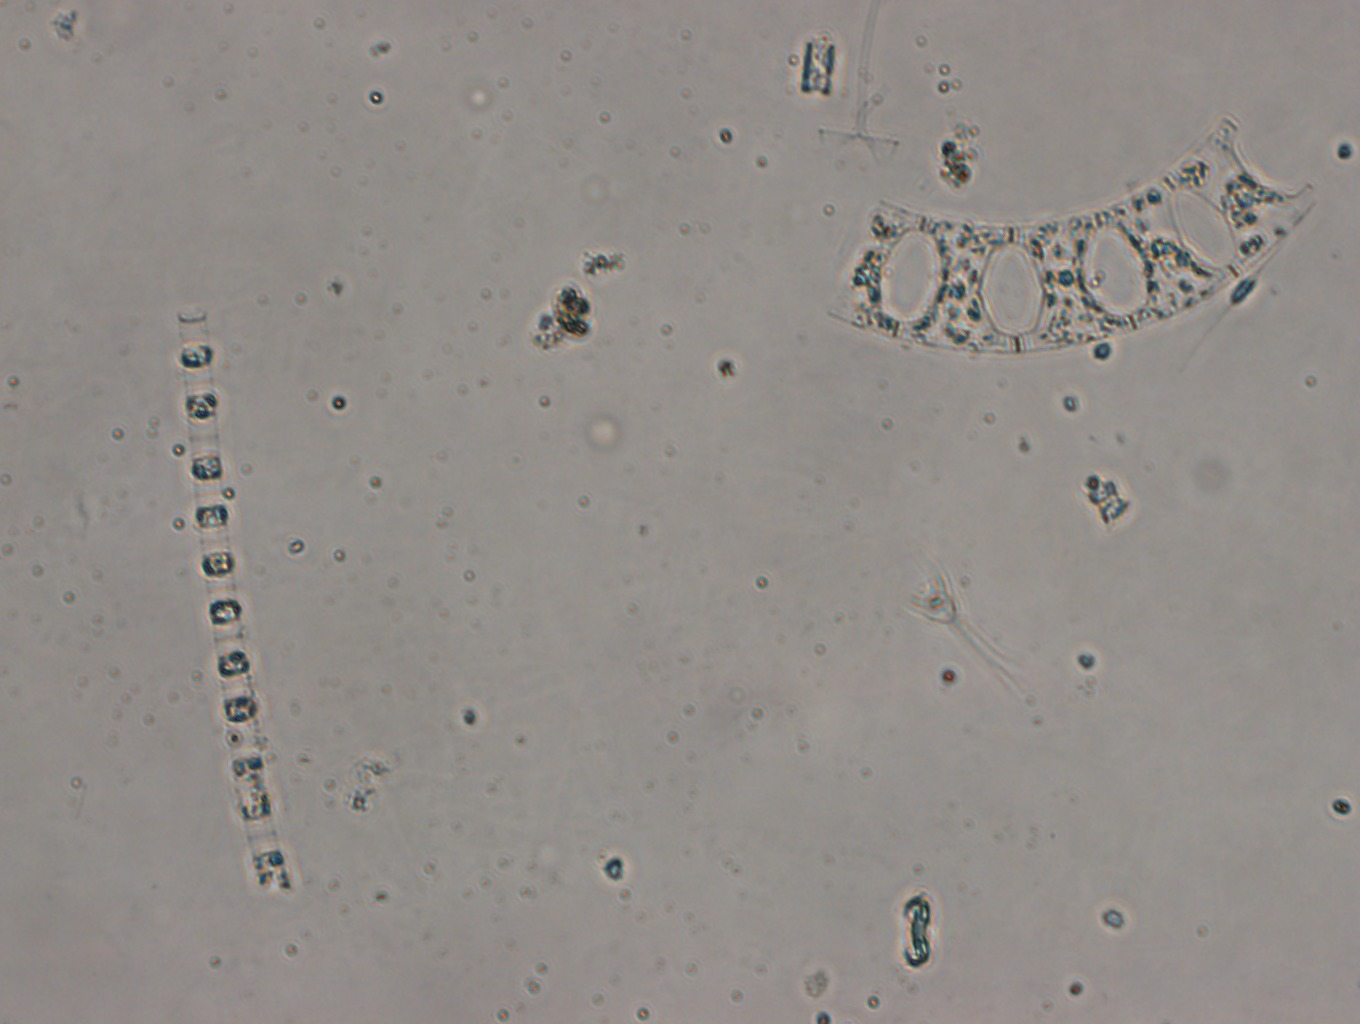eucampia: (828, 115, 1316, 355)
skeletonema: (178, 314, 292, 887)
